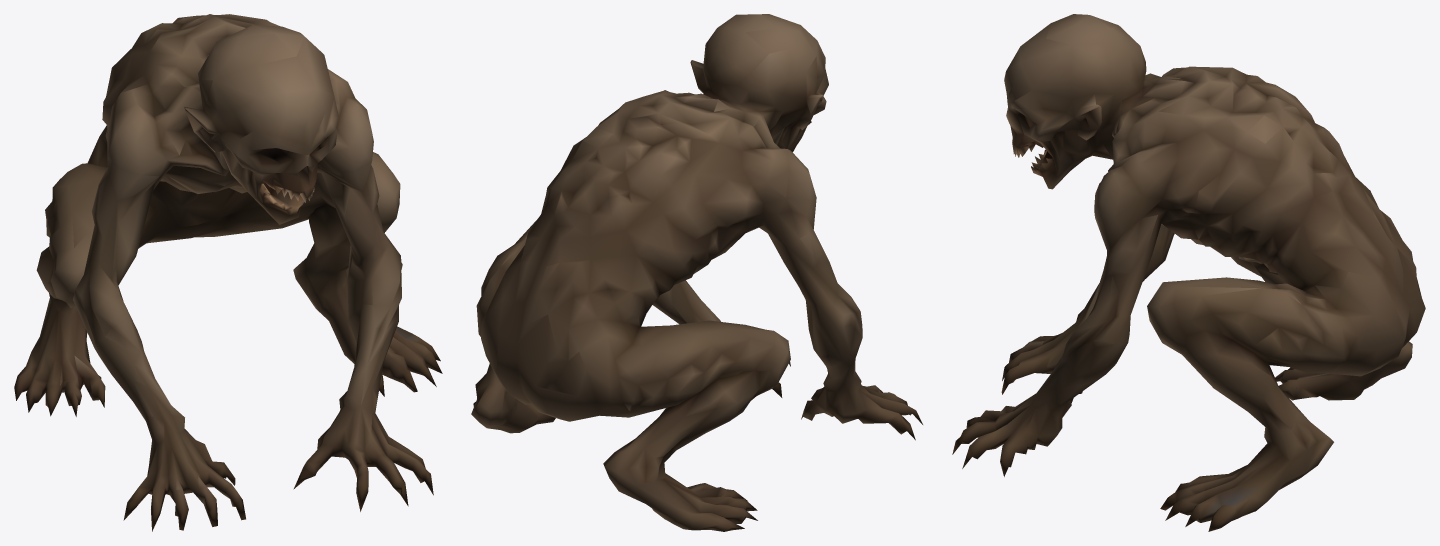
Rendered from crawler.glb.
3 views of the same model, side by side, from view 1: azimuth 30°, elevation 25°; view 2: azimuth 150°, elevation 25°; view 3: azimuth 270°, elevation 25° (orthographic). The views are drawn at different scales.
Bounding box in the file's own units: 1.71 × 1.79 × 1.91.
